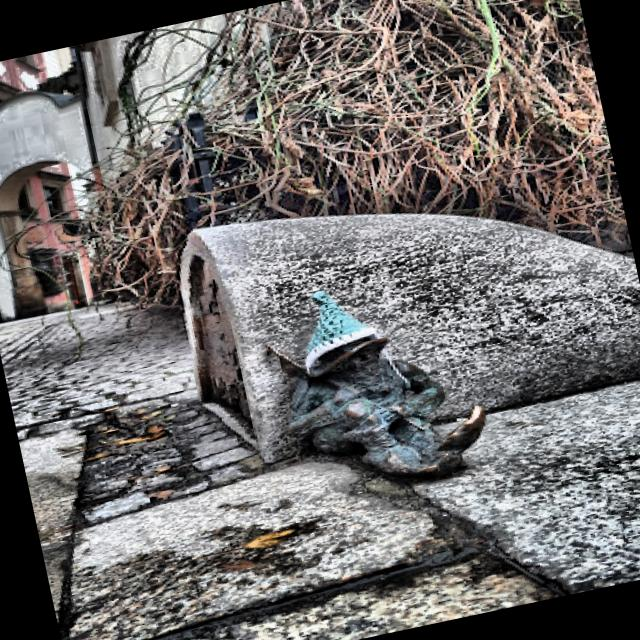Spioch: (275, 291, 485, 477)
